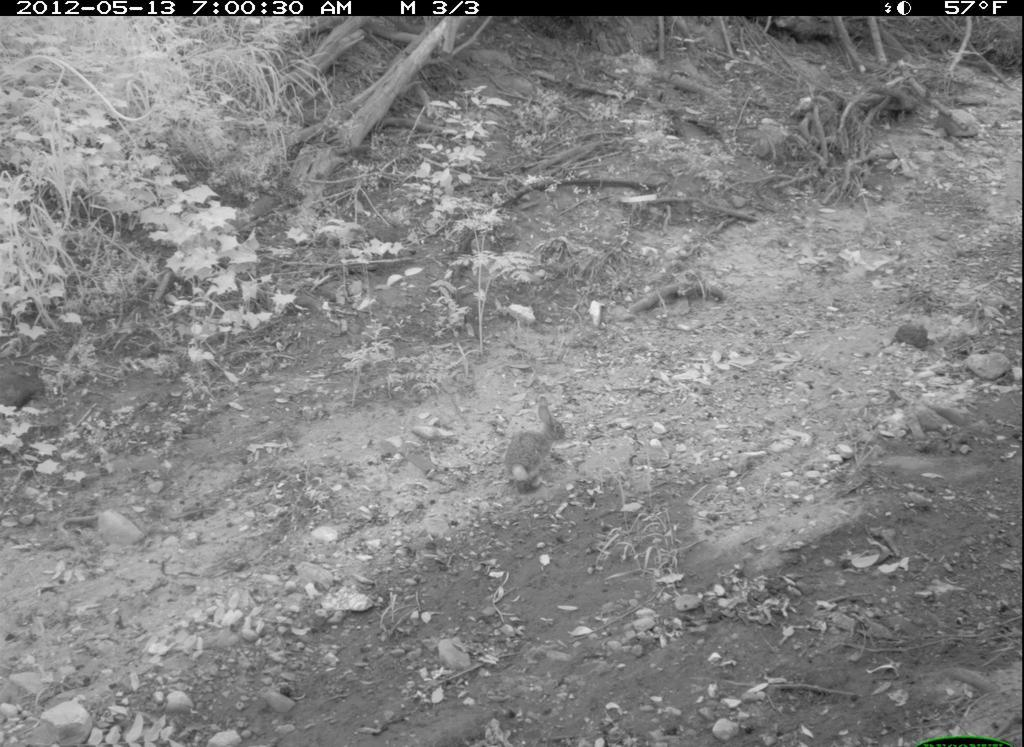rabbit: (500, 400, 571, 496)
